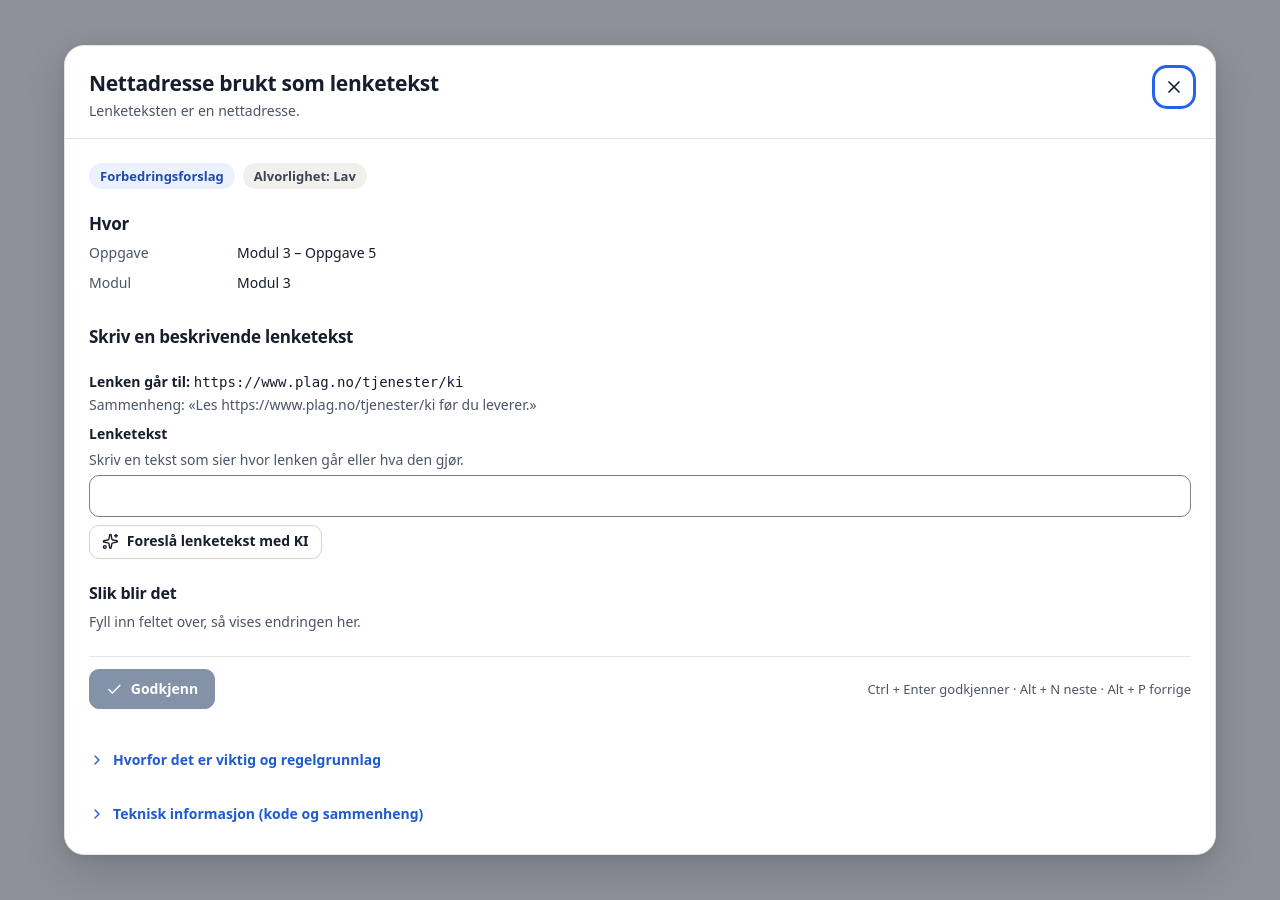
Scenario: Foreslå lenketekst med KI › keeps the field and the manual fix when the service fails or answers unusably
The image size is (1280, 900).
Type "Plagiatsjekk" into the field labelled "Lenketekst" at (640, 496), box [89, 475, 1191, 517]
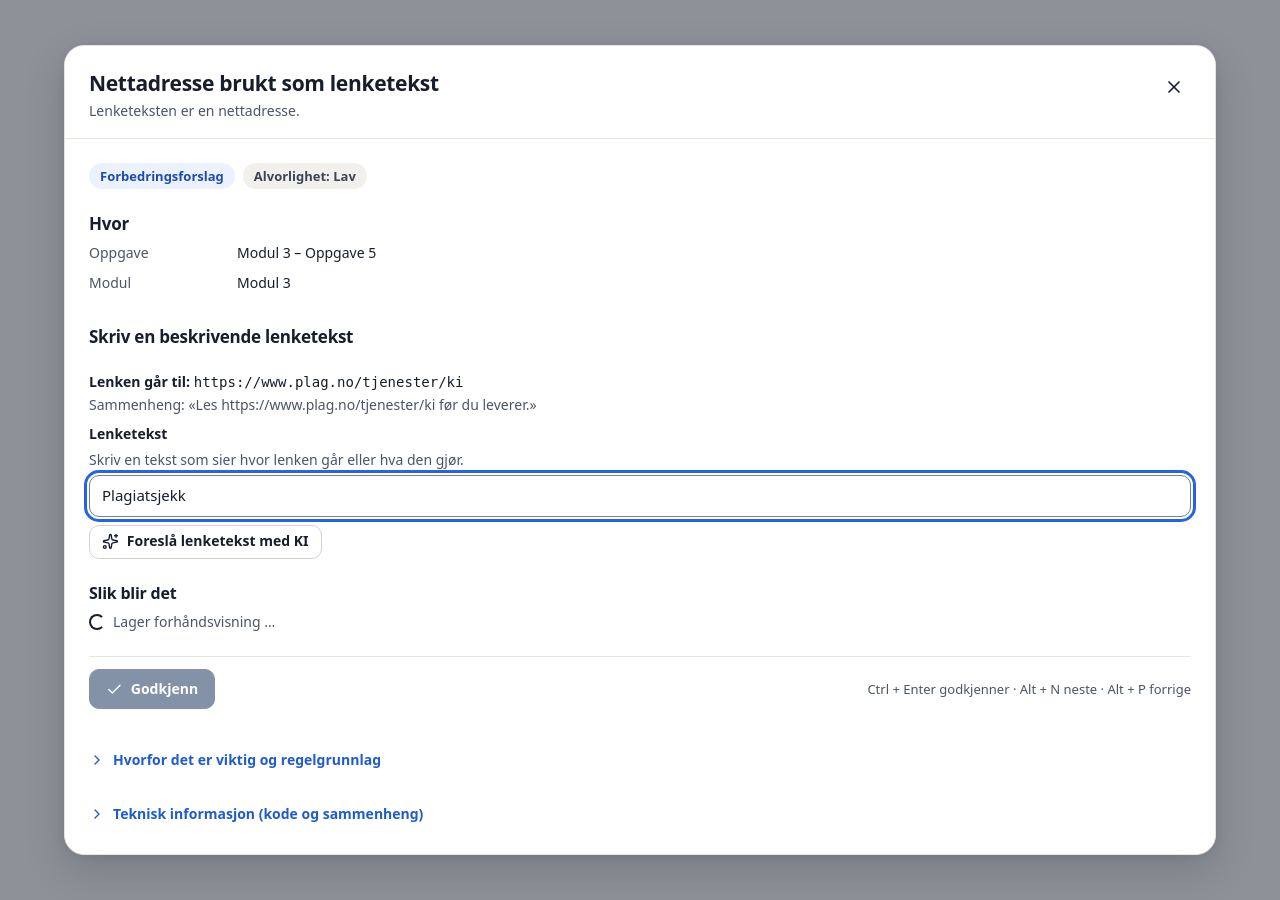
Click the button "Foreslå lenketekst med KI" at (205, 542), box [89, 525, 322, 559]
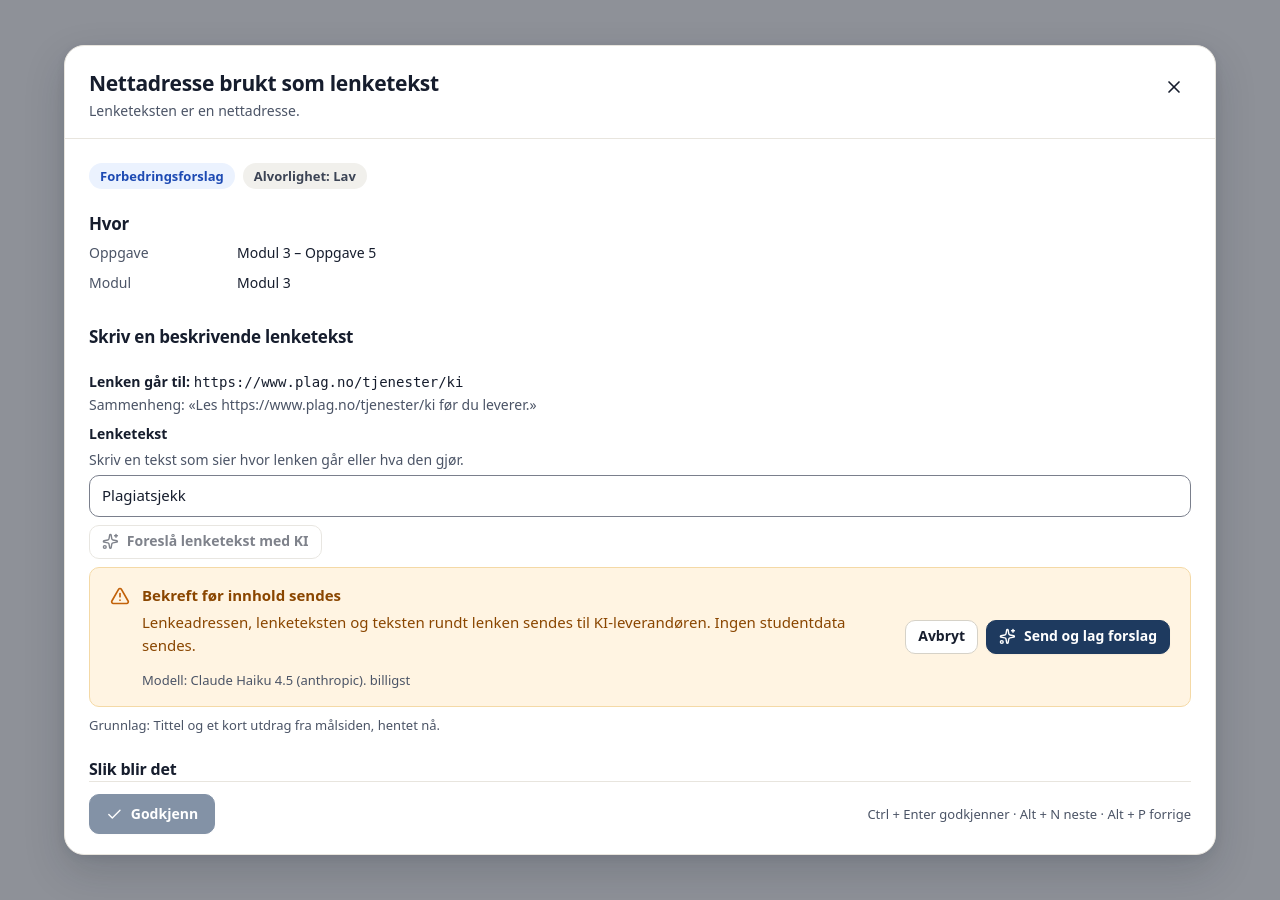
Click the button "Send og lag forslag" at (1078, 637), box [986, 620, 1170, 654]
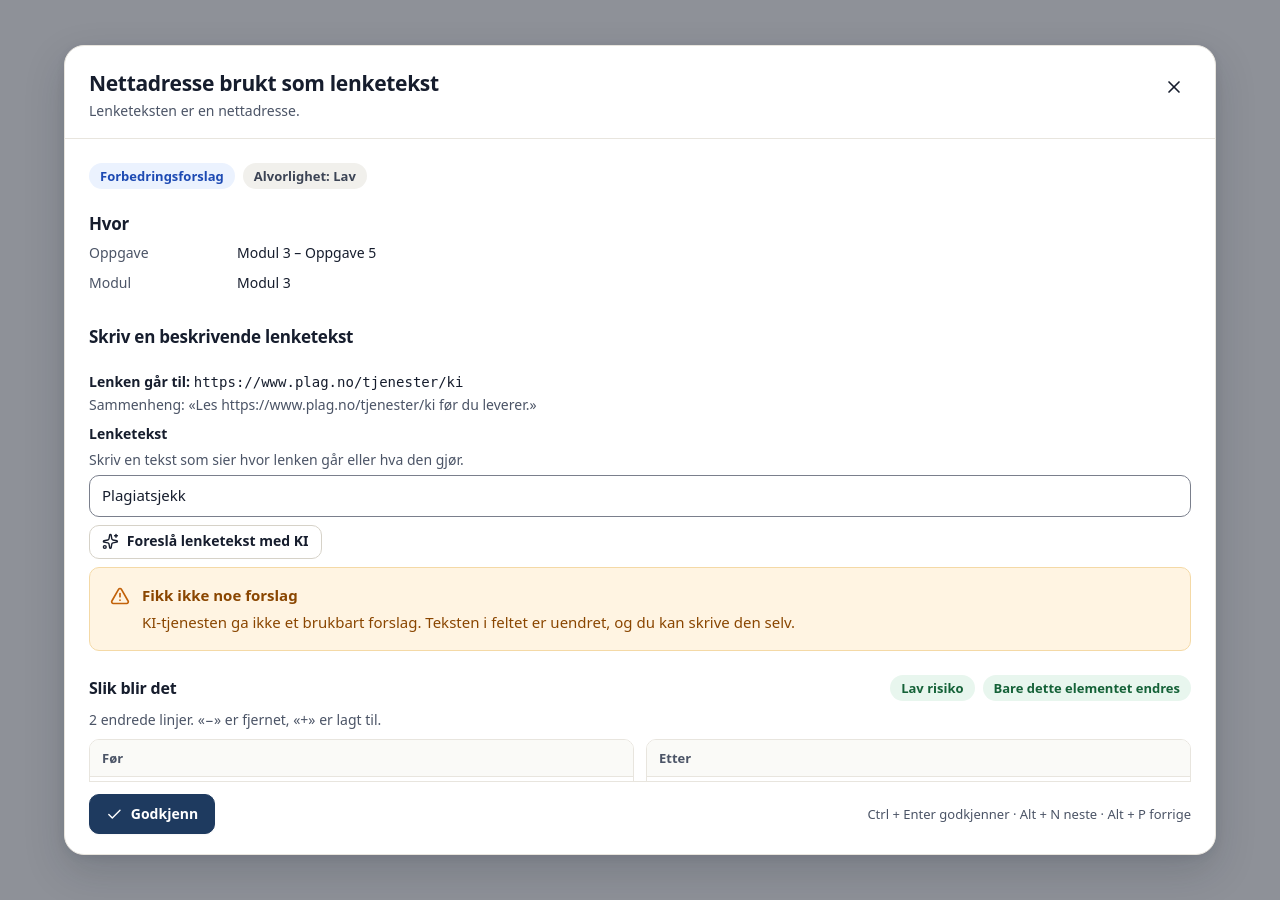
Result: the text "Fikk ikke noe forslag" is shown at [142, 585, 298, 605]
Result: the text "Teksten i feltet er uendret, og du kan skrive den selv" is shown at [422, 612, 795, 632]
Result: the button "Foreslå lenketekst med KI" is enabled at [89, 525, 322, 559]
